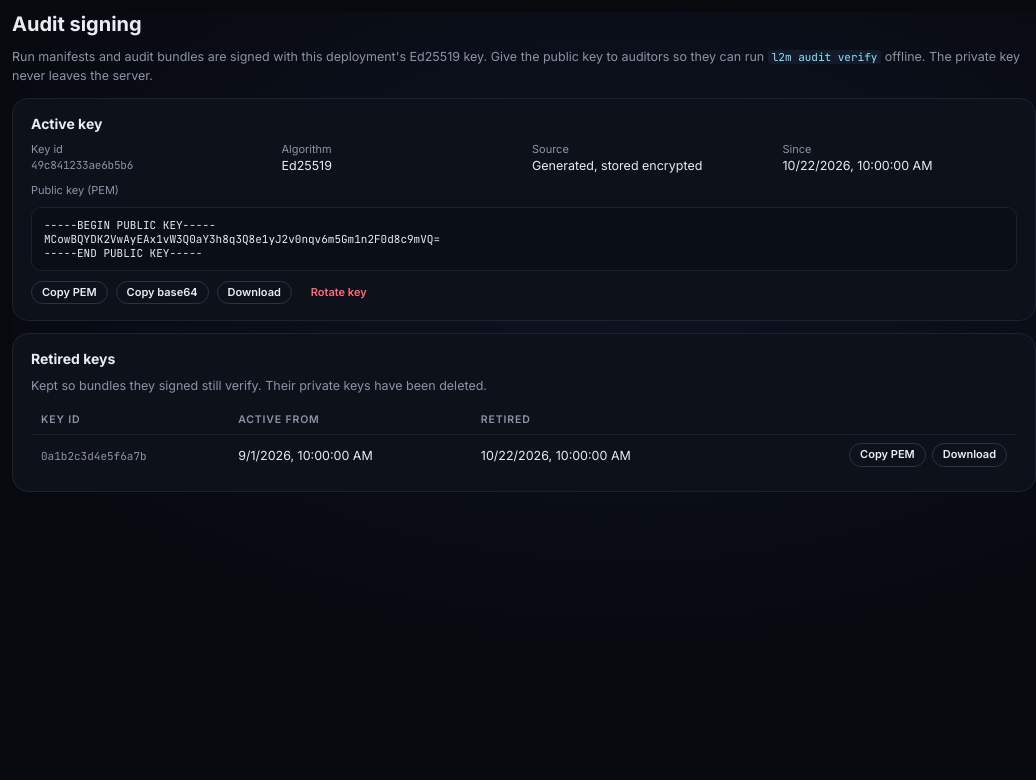
Settings: audit signing keys › rotates after confirmation and shows the new key
The image size is (1036, 780).
Click the button "Rotate key": (339, 292) [300,280,378,304]
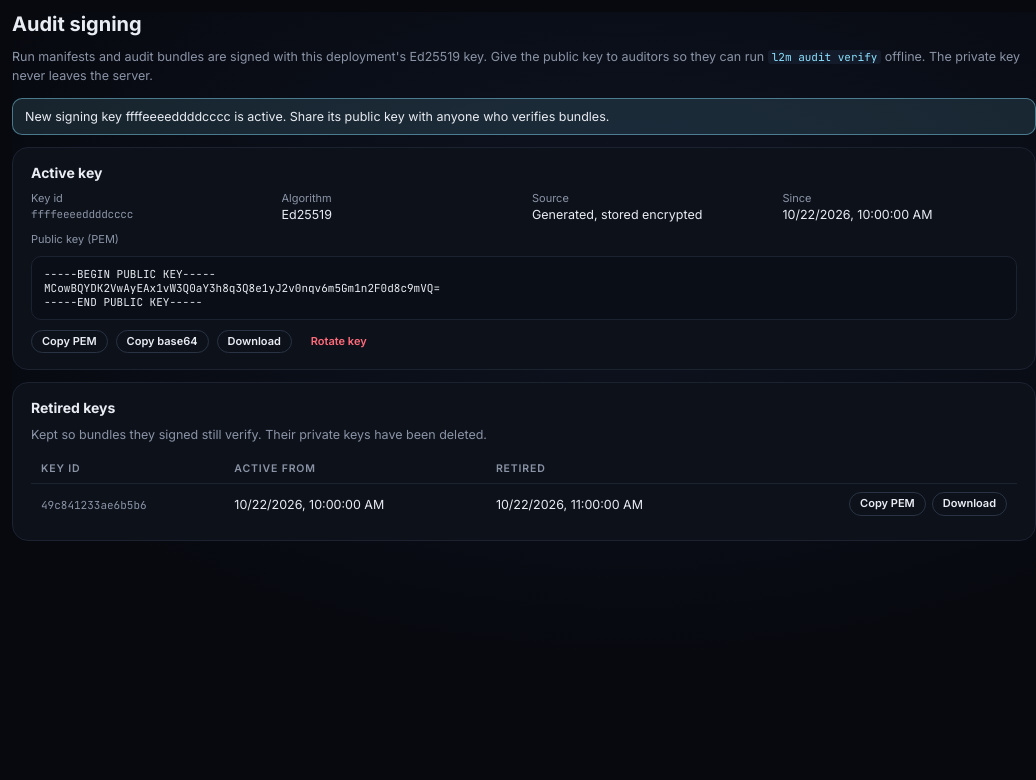
Expected: the text "New signing key ffffeeeeddddcccc is active" is shown, [25,108,609,124]
